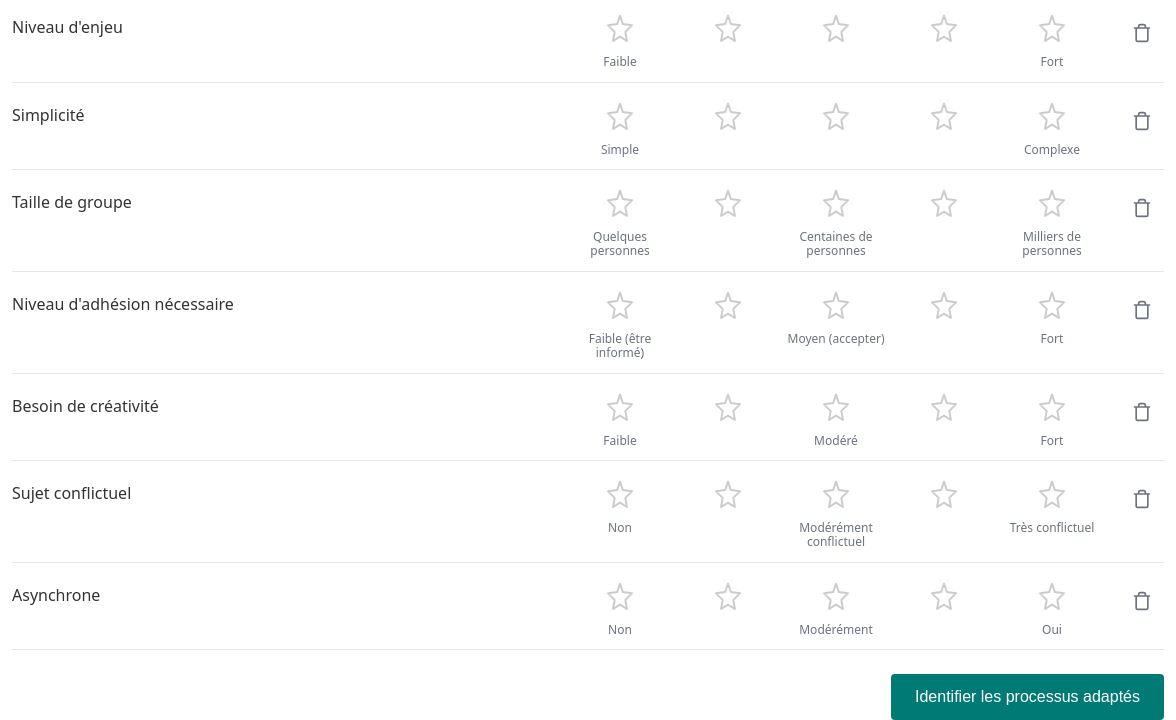
Test: CriteriaForm › shows error when submitting without selecting any criterion
(page scrolled)
Click the button "Identifier les processus adaptés".
click(1028, 697)  # box [891, 674, 1164, 719]
(page scrolled)
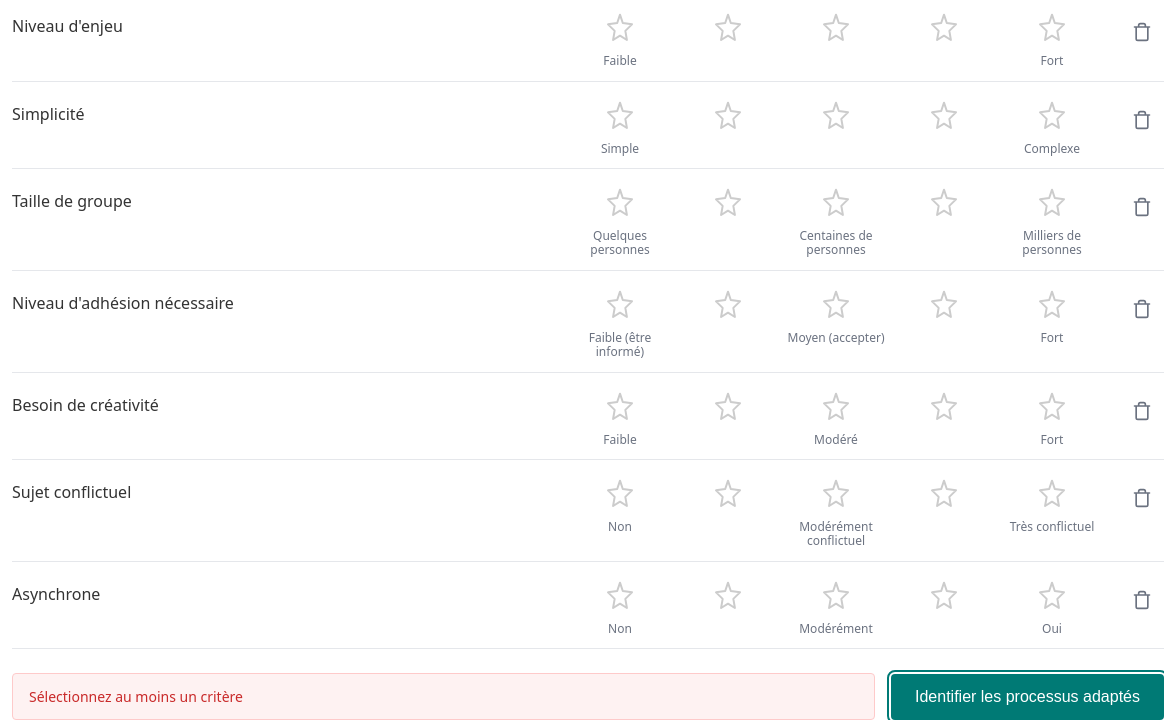
Check: the text "Sélectionnez au moins un critère" is shown, box [12, 673, 875, 719]
